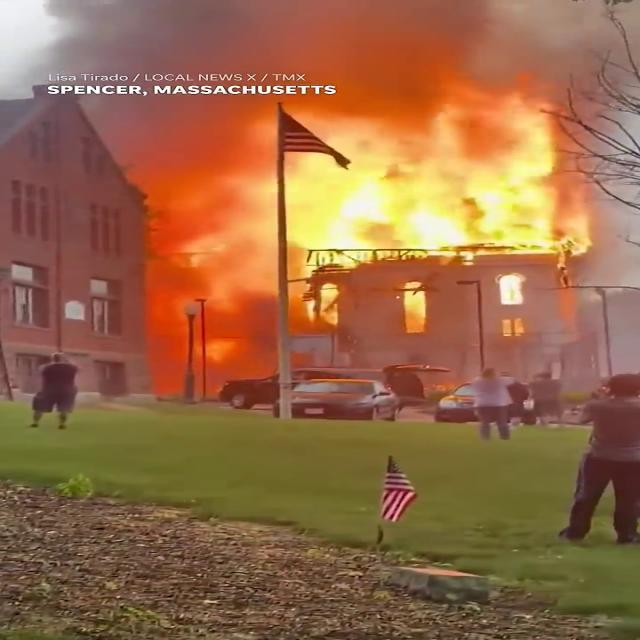Fire: (186, 78, 599, 320)
Smoke: (62, 0, 640, 122)
